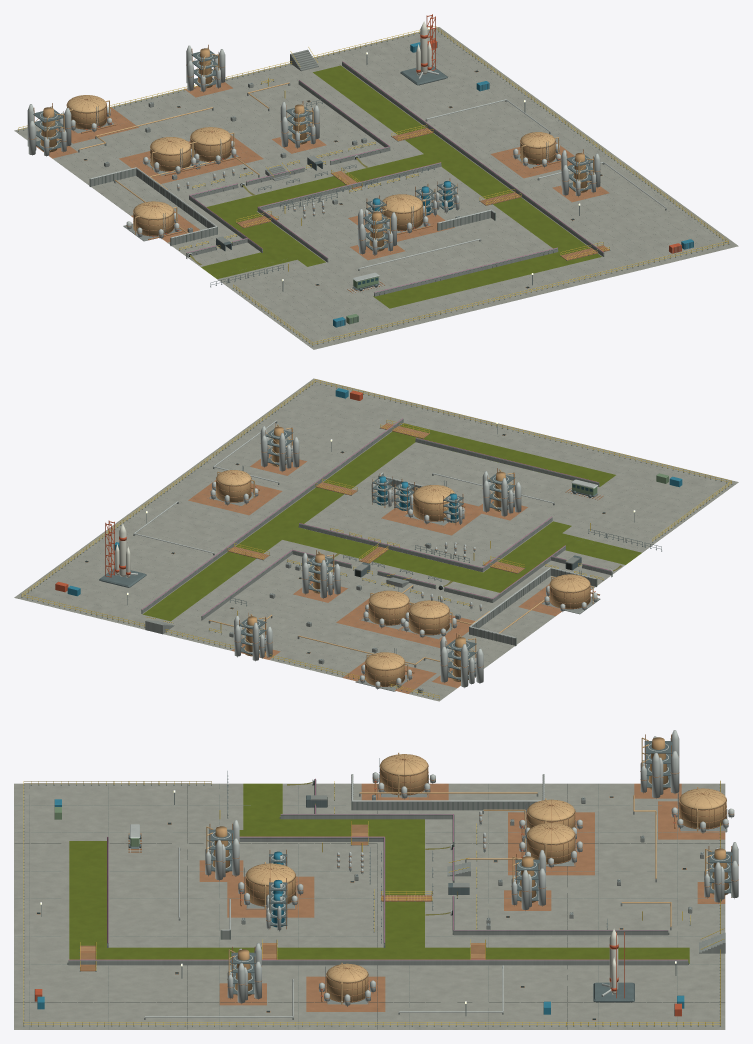
Rendered from terrain-props.glb.
3 views of the same model, one above another, from view 1: azimuth 30°, elevation 25°; view 2: azimuth 150°, elevation 25°; view 3: azimuth 270°, elevation 25° (orthographic). The views are drawn at different scales.
Parts seen in each view (by area): view 1: hm10-opaque-chunk-4-2, hm10-opaque-chunk-2-0, hm10-opaque-chunk-0-0, hm10-opaque-chunk-2-4, hm10-opaque-chunk-0-2, hm10-opaque-chunk-1-3, hm10-opaque-chunk-1-1, hm10-opaque-chunk-4-0, hm10-opaque-chunk-2-2, hm10-opaque-chunk-4-3, hm10-opaque-chunk-2-1, hm10-opaque-chunk-1-4 (+24 smaller); view 2: hm10-opaque-chunk-4-2, hm10-opaque-chunk-0-0, hm10-opaque-chunk-0-2, hm10-opaque-chunk-1-3, hm10-opaque-chunk-2-3, hm10-opaque-chunk-4-0, hm10-opaque-chunk-2-0, hm10-opaque-chunk-2-1, hm10-opaque-chunk-1-1, hm10-opaque-chunk-2-2, hm10-opaque-chunk-4-3, hm10-opaque-chunk-3-1 (+24 smaller); view 3: hm10-opaque-chunk-4-2, hm10-opaque-chunk-0-2, hm10-opaque-chunk-0-0, hm10-opaque-chunk-2-0, hm10-opaque-chunk-1-1, hm10-opaque-chunk-2-4, hm10-opaque-chunk-3-1, hm10-opaque-chunk-2-1, hm10-opaque-chunk-2-3, hm10-opaque-chunk-0-4, hm10-opaque-chunk-2-2, hm10-opaque-chunk-3-3 (+24 smaller).
Boxes of the visible parts, box(x1,y1,x2,y2) form: hm10-opaque-chunk-4-2: box(342, 61, 604, 256); hm10-opaque-chunk-2-0: box(18, 26, 434, 130); hm10-opaque-chunk-0-0: box(14, 95, 142, 169); hm10-opaque-chunk-2-4: box(359, 212, 557, 296); hm10-opaque-chunk-0-2: box(115, 167, 262, 252); hm10-opaque-chunk-1-3: box(250, 207, 391, 267); hm10-opaque-chunk-1-1: box(140, 127, 268, 189); hm10-opaque-chunk-4-0: box(317, 14, 447, 95); hm10-opaque-chunk-2-2: box(258, 153, 441, 210); hm10-opaque-chunk-4-3: box(476, 135, 604, 212); hm10-opaque-chunk-2-1: box(227, 101, 346, 168); hm10-opaque-chunk-1-4: box(303, 217, 430, 306); hm10-opaque-chunk-4-2: box(141, 418, 403, 613); hm10-opaque-chunk-0-0: box(355, 633, 492, 701); hm10-opaque-chunk-0-2: box(470, 545, 600, 633); hm10-opaque-chunk-1-3: box(448, 472, 576, 571); hm10-opaque-chunk-2-3: box(372, 475, 496, 547); hm10-opaque-chunk-4-0: box(62, 520, 189, 627); hm10-opaque-chunk-2-0: box(22, 594, 438, 697); hm10-opaque-chunk-2-1: box(266, 550, 393, 625); hm10-opaque-chunk-1-1: box(342, 585, 471, 643); hm10-opaque-chunk-2-2: box(299, 523, 482, 587); hm10-opaque-chunk-4-3: box(213, 423, 349, 510); hm10-opaque-chunk-3-1: box(190, 546, 312, 620); hm10-opaque-chunk-4-2: box(68, 958, 688, 1004); hm10-opaque-chunk-0-2: box(280, 752, 541, 827); hm10-opaque-chunk-0-0: box(599, 730, 734, 832); hm10-opaque-chunk-2-0: box(599, 780, 738, 1021); hm10-opaque-chunk-1-1: box(466, 799, 598, 871); hm10-opaque-chunk-2-4: box(93, 832, 223, 945); hm10-opaque-chunk-3-1: box(453, 912, 668, 959); hm10-opaque-chunk-2-1: box(472, 849, 598, 914); hm10-opaque-chunk-2-3: box(219, 833, 345, 914); hm10-opaque-chunk-0-4: box(24, 781, 219, 827); hm10-opaque-chunk-2-2: box(346, 837, 472, 945); hm10-opaque-chunk-3-3: box(219, 885, 345, 959).
Size of the model in its own units: 66.61 by 8.3 by 79.64.
Materials: 2 (1 with a texture image).
